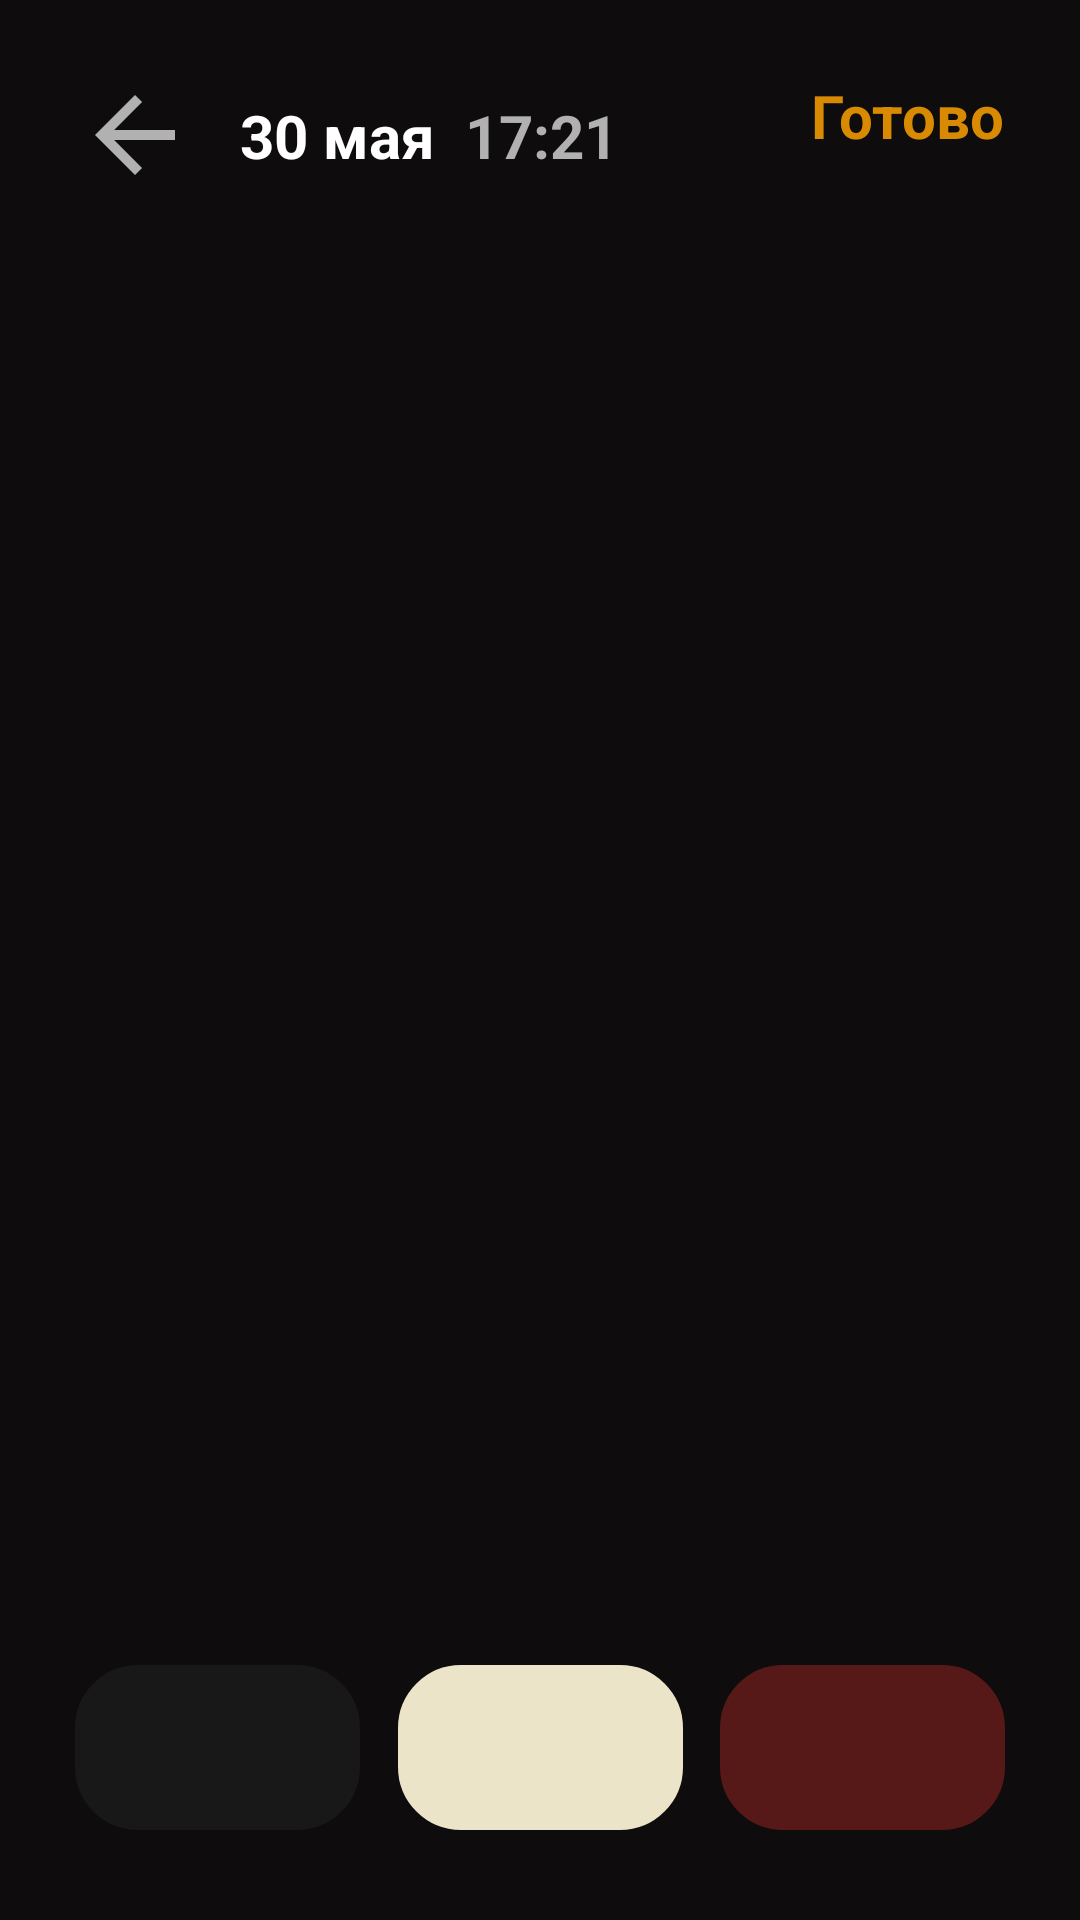

Screen size 1080 x 1920. Icon name, then its center in pixels as (x=x, y=y):
arrow left: (x=135, y=135)
